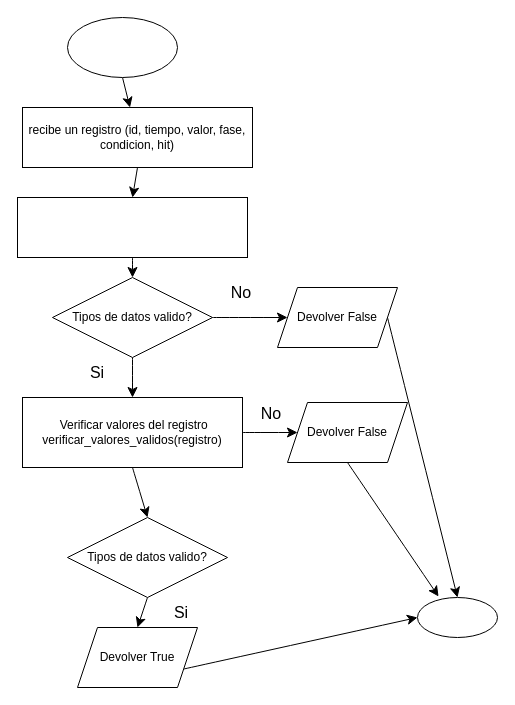
The diagram is 515 pixels wide and 705 high, and some of its shapes have lost their labels. Each missing label, with the centre of its shape:
"Inicio" belongs at (122,47).
"RETURN" belongs at (457,617).
"Verificar que el tipo de dato sea valido: verificar_tipo_datos(regsitro)" belongs at (132,227).
